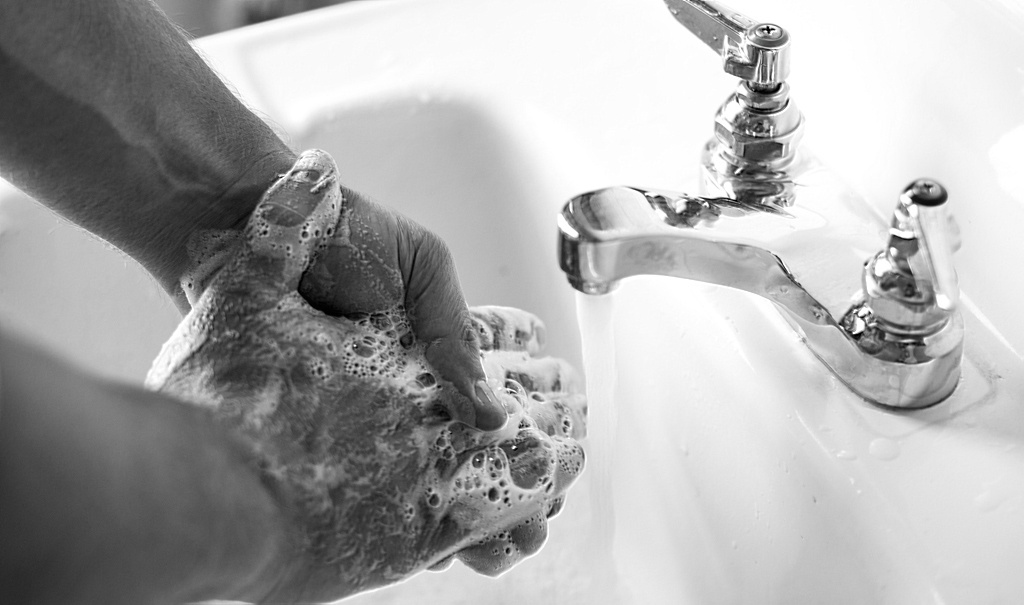washing hand: (103, 31, 825, 586)
